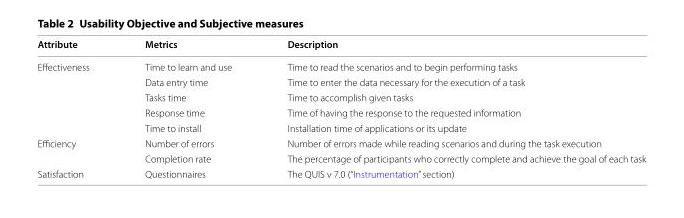table: (36, 37, 645, 179)
table column: (258, 37, 645, 179), (116, 37, 258, 179), (36, 37, 116, 179)
table column header: (36, 37, 645, 55)
table row: (36, 55, 645, 74), (36, 37, 645, 55), (36, 104, 645, 120), (36, 74, 645, 89), (36, 89, 645, 104), (36, 120, 645, 135), (36, 135, 645, 150), (36, 150, 645, 165), (36, 165, 645, 179)
table spanning cell: (36, 55, 116, 135), (36, 135, 116, 165)
